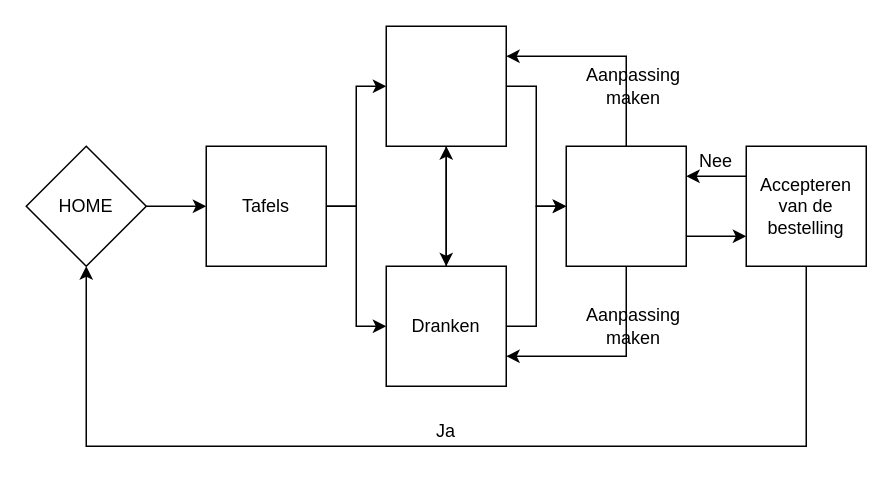
Image size: 893x485. Some labels were removed from this diagram. The centre of each missing label's shape, as x and y in pixels:
Gerechten: the point at 445,85
Lijst met geselcteerde dranken en gerechten: the point at 625,205
